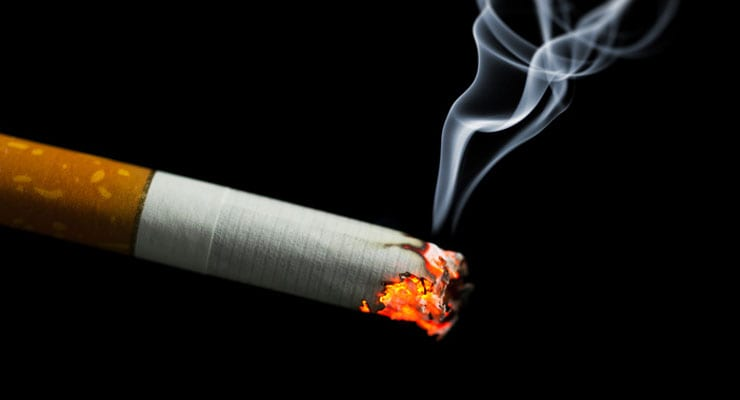cigarette: (4, 123, 479, 339)
